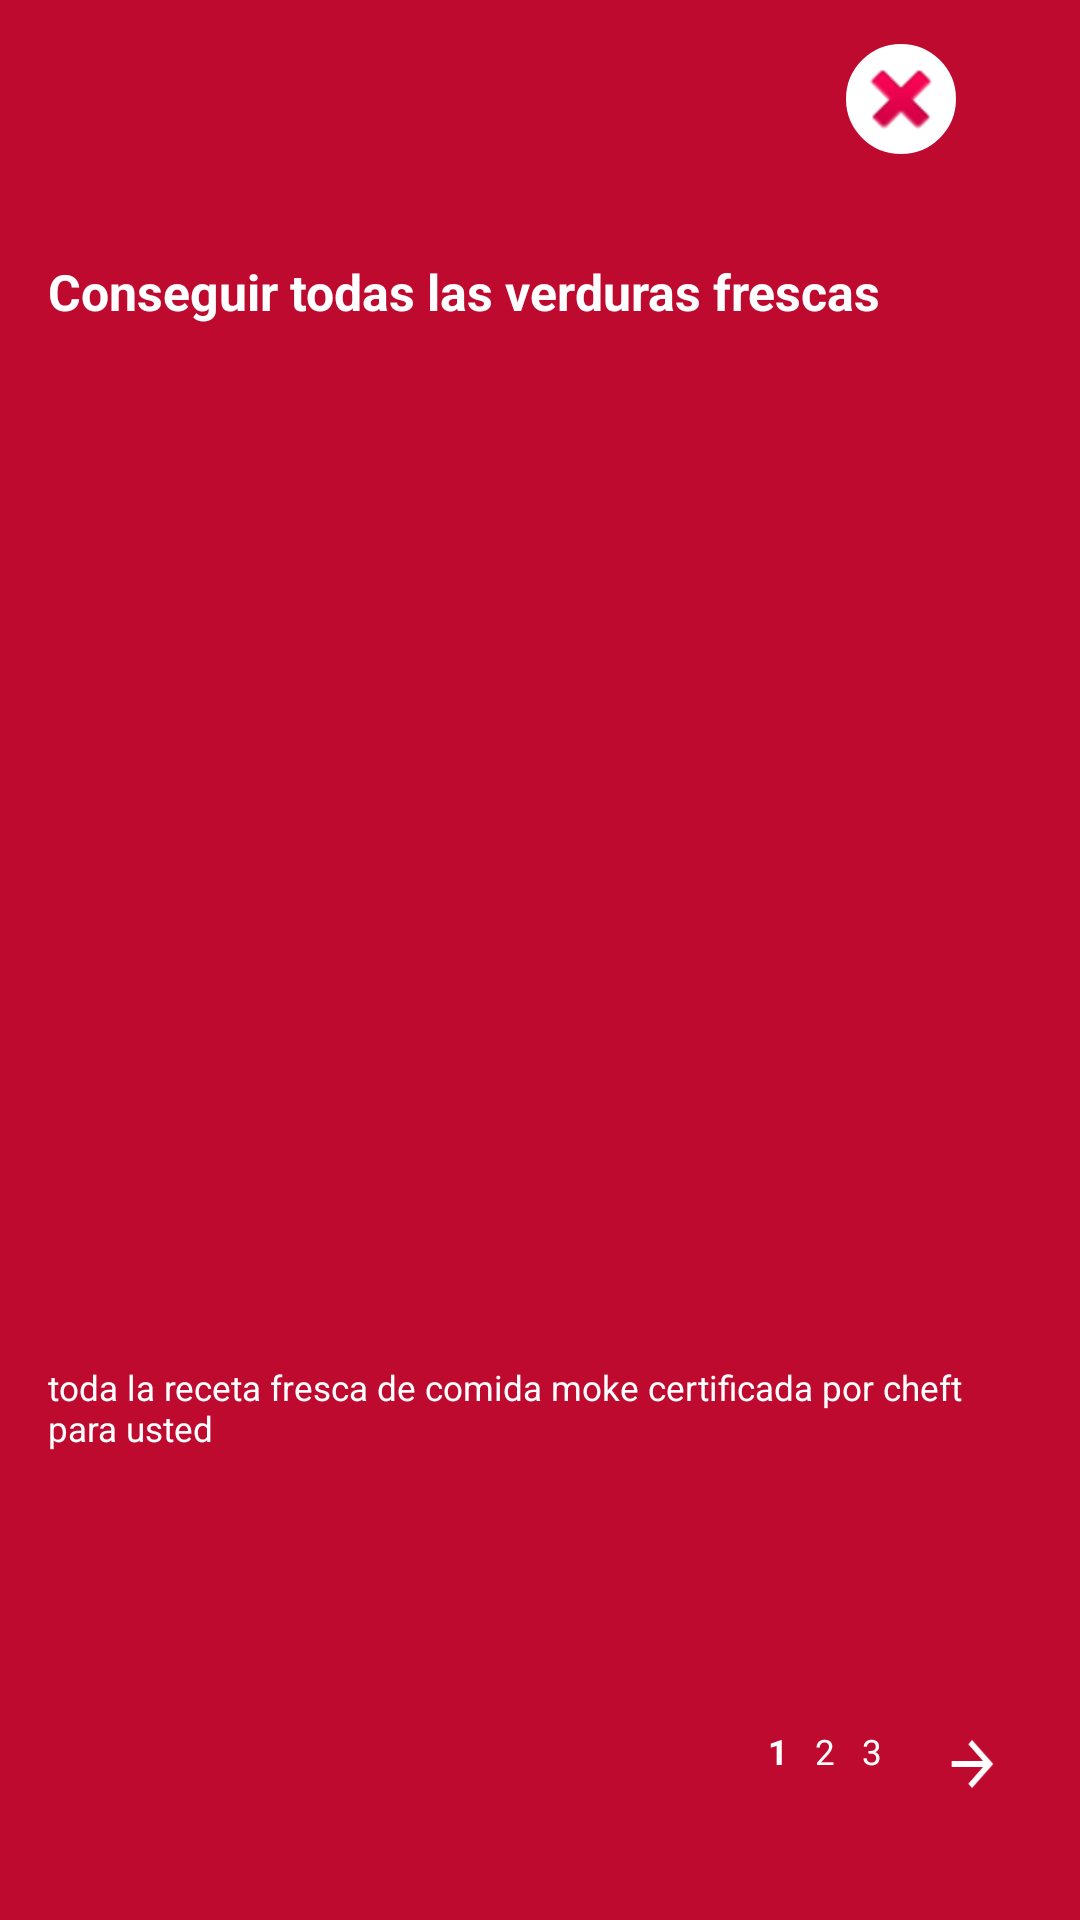

Icons on this 1080 x 1920 Android screen, each with the point to tap as point (x, y):
delete: point (901, 99)
